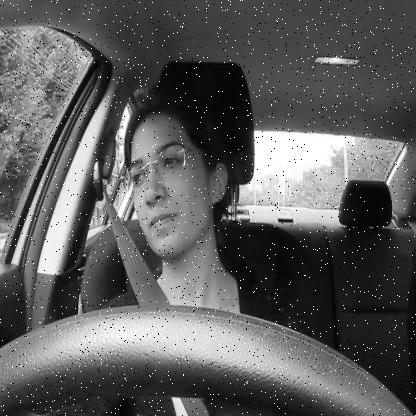seatbelt: (79, 71, 252, 416)
